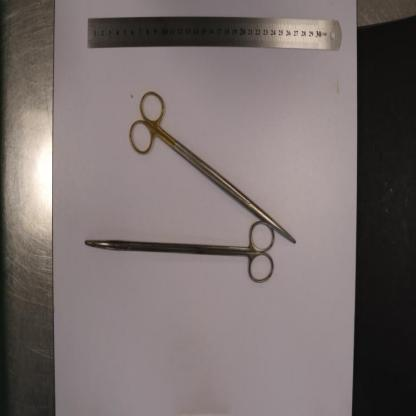7 Metzenbaum Scissors: (129, 88, 296, 246)
9 Metzenbaum Scissors: (85, 220, 276, 284)
